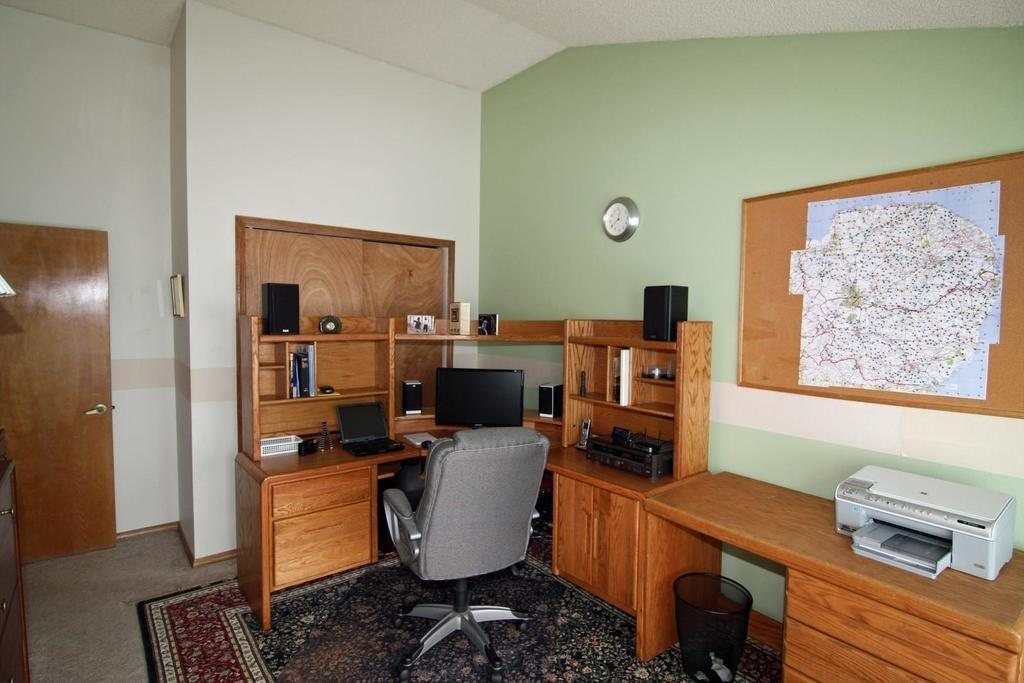AIO PC-Monitor-TV: (433, 366, 525, 429)
Kursi: (381, 426, 549, 682)
Printer: (833, 463, 1015, 578)
